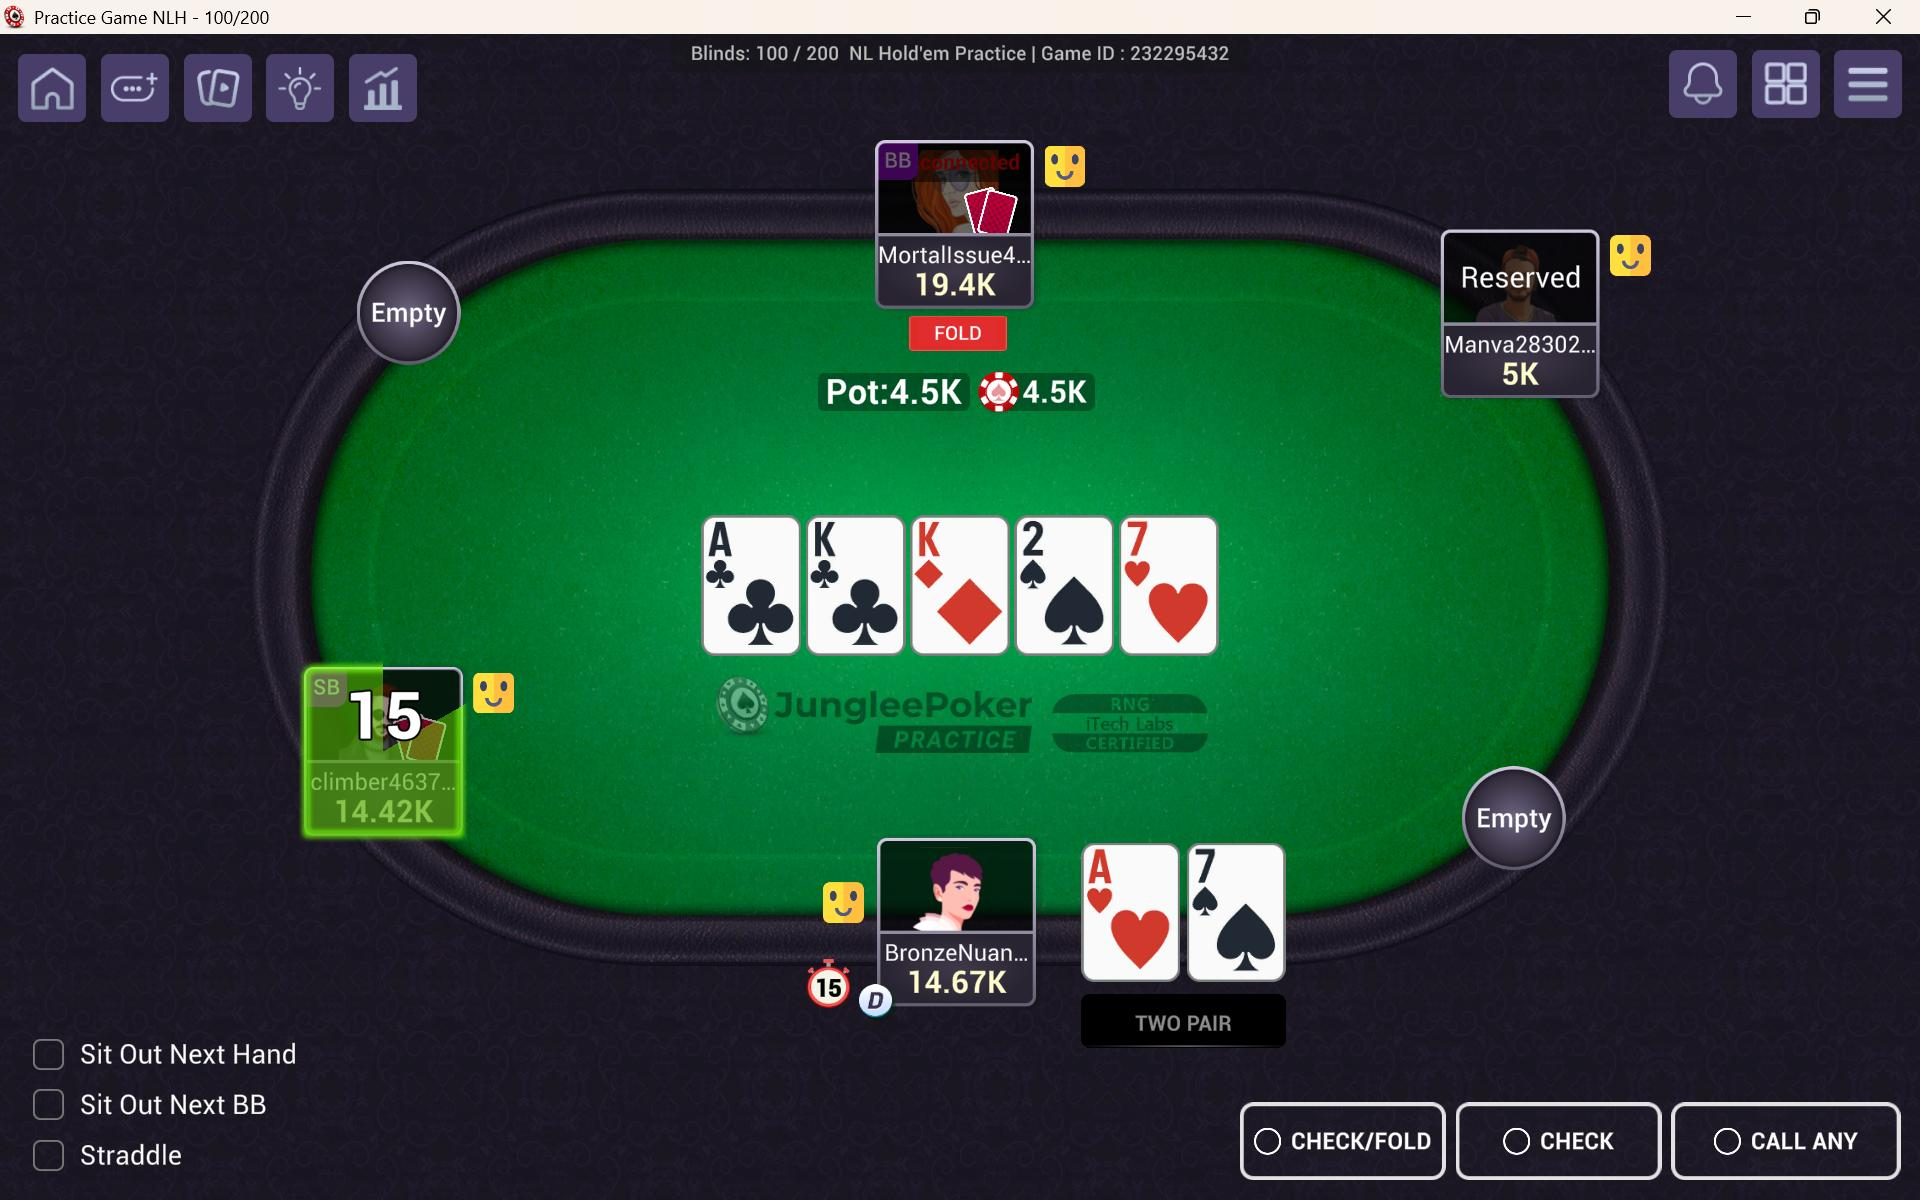card1_rank: (1085, 842, 1142, 888)
card1_suite_heart: (1108, 902, 1180, 982)
card2_rank: (1182, 843, 1232, 890)
card2_suite_spades: (1202, 905, 1280, 983)
flop1_rank: (702, 520, 768, 560)
flop1_suite_club: (725, 572, 798, 650)
flop2_rank: (802, 515, 867, 560)
flop2_suite_club: (830, 575, 902, 653)
flop3_rank: (912, 520, 968, 568)
flop3_suite_diamond: (932, 570, 1010, 653)
my_stack: (898, 968, 1018, 1002)
river_rank: (1120, 518, 1178, 562)
river_suite_heart: (1142, 582, 1212, 652)
total_pot: (818, 372, 1100, 412)
turn_rank: (1015, 515, 1082, 565)
turn_suite_spades: (1042, 578, 1115, 650)
villian1_name: (308, 763, 460, 798)
villian1_stack: (325, 795, 448, 832)
villian3_name: (878, 232, 1038, 270)
villian3_stack: (908, 272, 1008, 302)
villian4_name: (1448, 325, 1598, 360)
villian4_stack: (1475, 358, 1562, 392)
